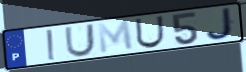5: (170, 10, 200, 46)
I: (45, 28, 58, 62)
J: (204, 6, 236, 42)
M: (96, 19, 136, 55)
U: (63, 23, 96, 59), (134, 15, 166, 50)
